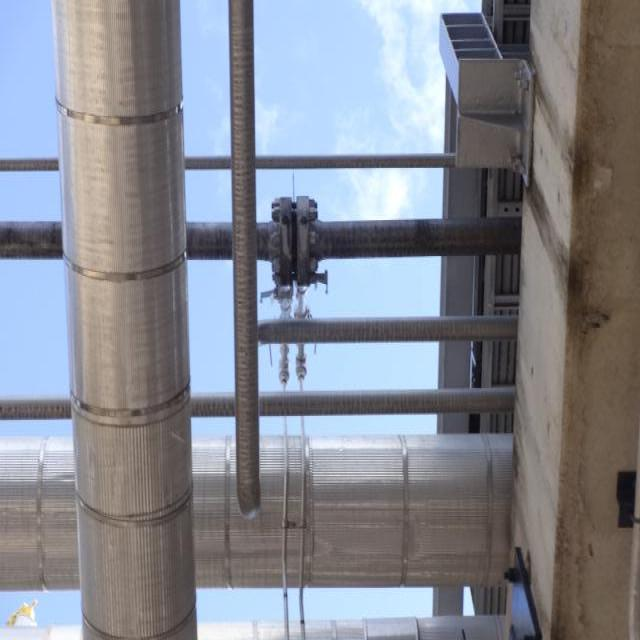gas: (52, 1, 200, 639), (224, 1, 263, 512), (185, 210, 517, 266), (0, 151, 459, 169), (267, 389, 515, 415), (255, 318, 517, 342), (0, 220, 59, 258), (1, 396, 70, 419), (191, 393, 236, 416)
